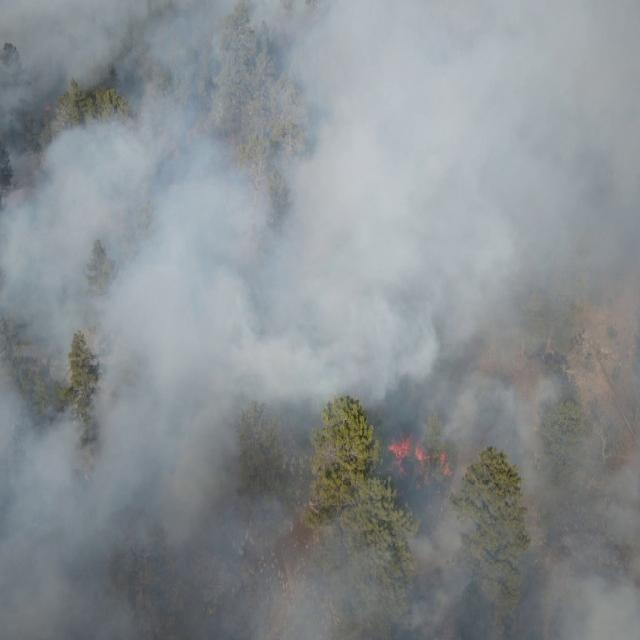fire: (384, 436, 454, 482), (42, 102, 56, 116)
smoke: (0, 0, 640, 640)
